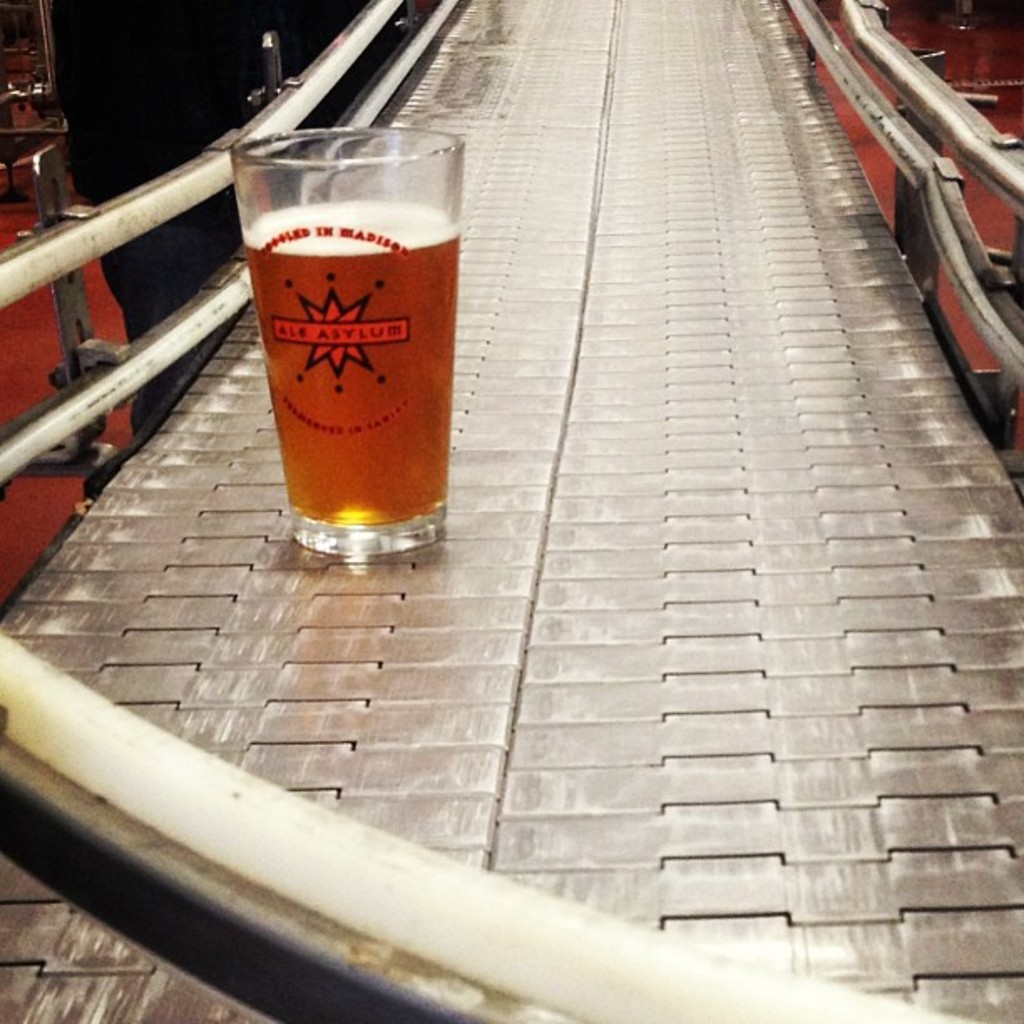Beer: (247, 199, 460, 527)
